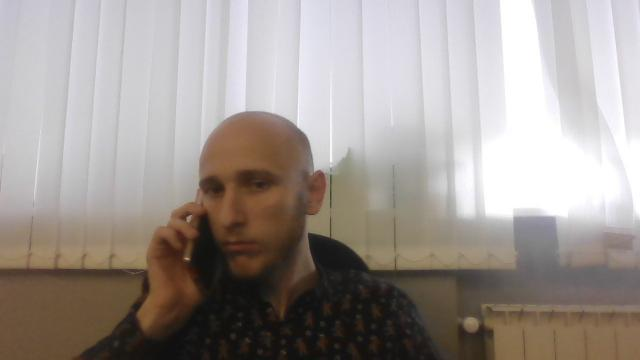PhoneUse: (181, 188, 219, 296)
SafeDriving: (240, 173, 280, 196), (196, 176, 228, 202)
